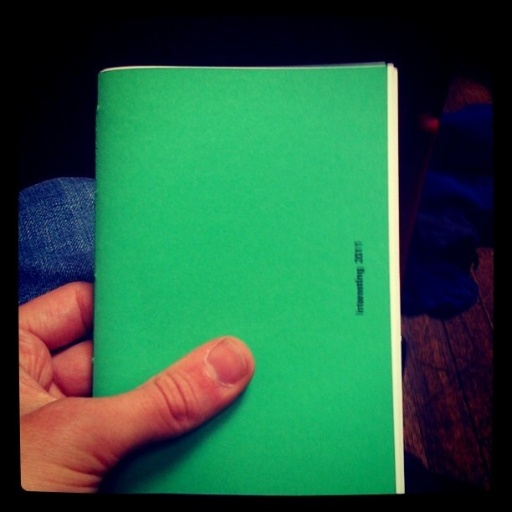hand: (0, 345, 275, 491)
